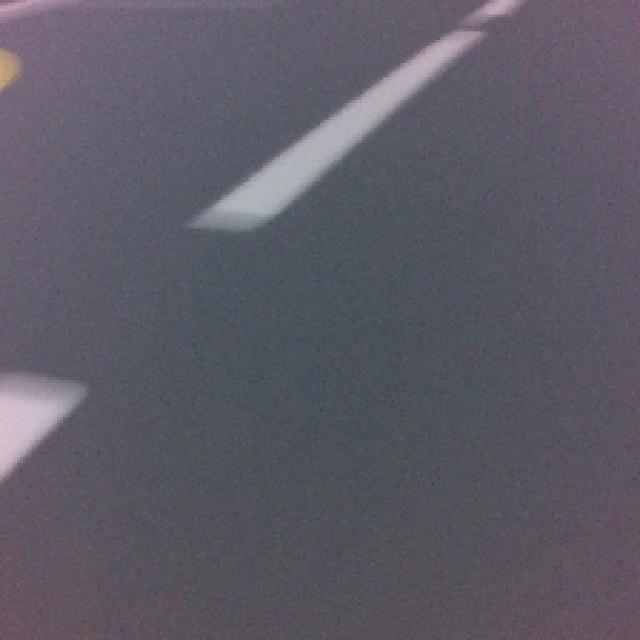Guard rail: (198, 30, 487, 228), (1, 379, 85, 486)
